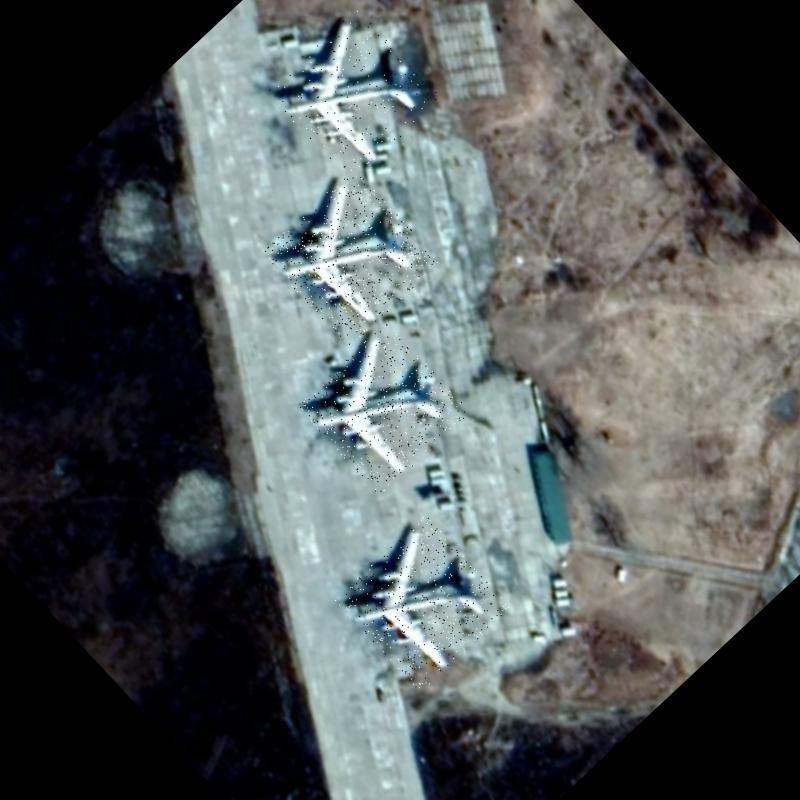A17: (262, 167, 442, 347), (265, 6, 443, 184), (334, 514, 512, 692), (296, 321, 471, 496)
